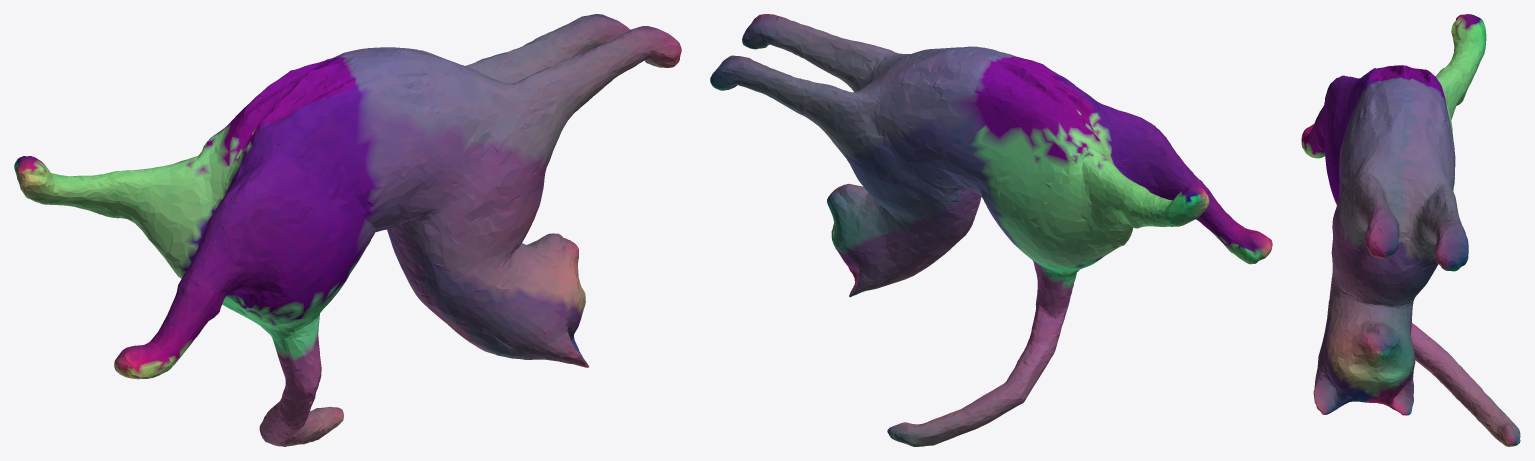
File: cat-18.off.obj
3 renders of one model, left to right at view 1: azimuth 30°, elevation 25°; view 2: azimuth 150°, elevation 25°; view 3: azimuth 270°, elevation 25°, orthographic. The views are drawn at different scales.
Bounding box in the file's own units: 1.66 × 1.12 × 0.632.
